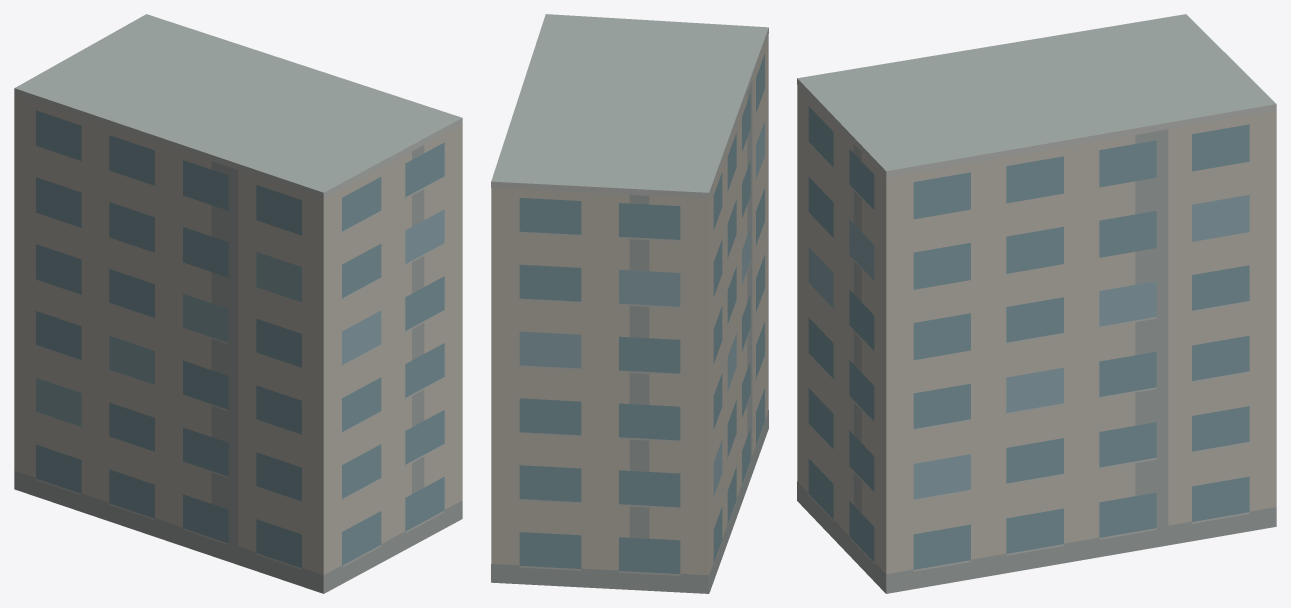
Rendered from survey-upis-32885966.glb.
The picture shows the model from 3 angles, left to right: view 1: azimuth 30°, elevation 25°; view 2: azimuth 150°, elevation 25°; view 3: azimuth 270°, elevation 25°; orthographic projection. The views are drawn at different scales.
Visible parts, largest first — view 1: survey-upis-32885966.tmp; view 2: survey-upis-32885966.tmp; view 3: survey-upis-32885966.tmp.
Part boxes in pixels (x1,y1,x2,y2): survey-upis-32885966.tmp: [14, 14, 462, 593]; survey-upis-32885966.tmp: [491, 14, 768, 593]; survey-upis-32885966.tmp: [797, 14, 1276, 593].
Bounding box in the file's own units: 12.57 × 15.75 × 16.2.
